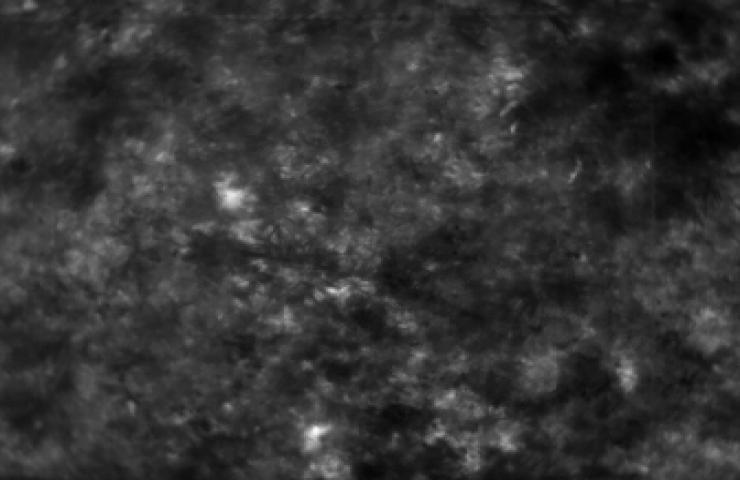landmines: (210, 174, 262, 218)
